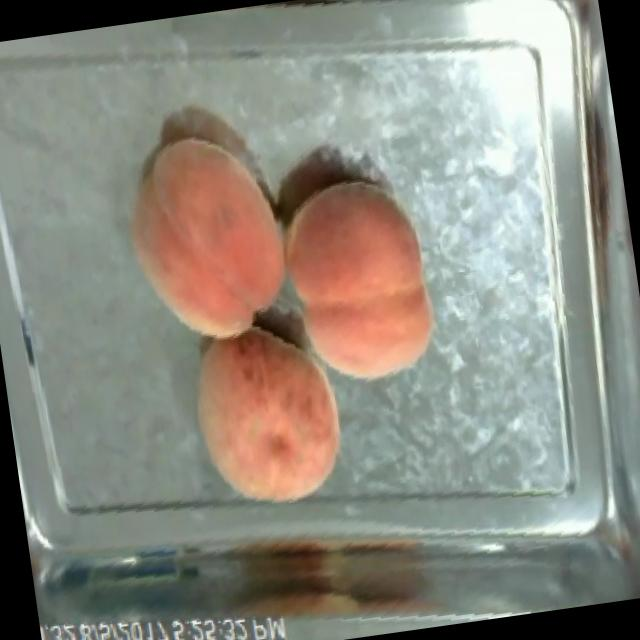Fruit: (104, 116, 307, 360), (264, 160, 449, 400), (175, 310, 360, 522)
